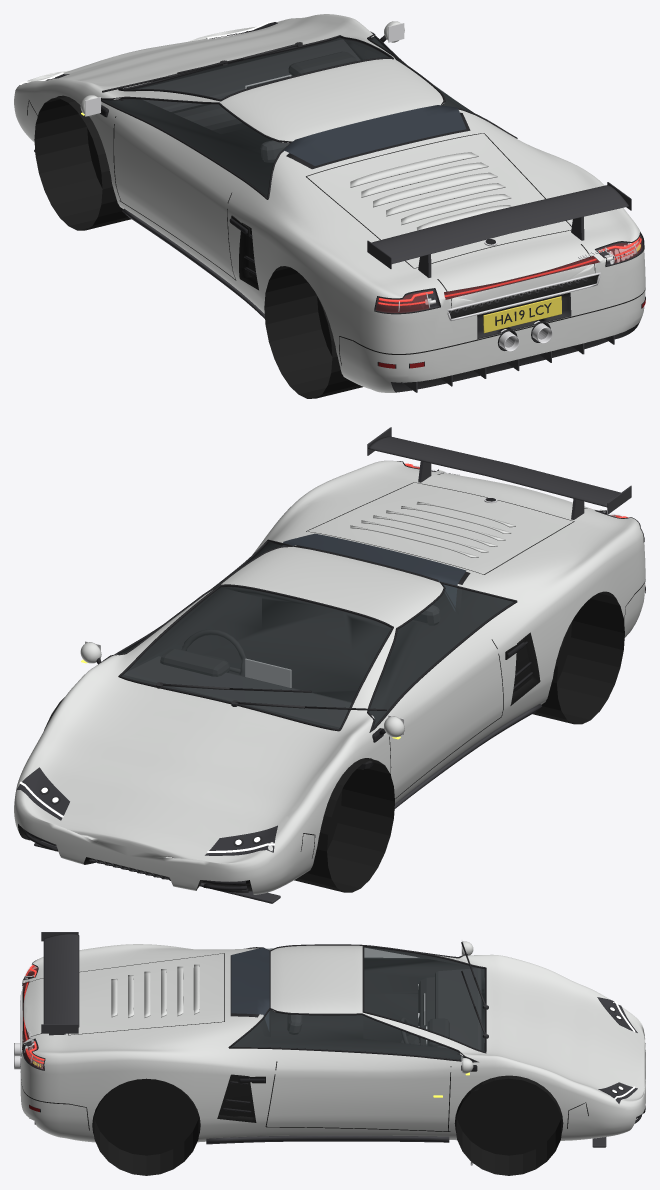
Rendered from halcyon.glb.
3 views of the same model, one above another, from view 1: azimuth 30°, elevation 25°; view 2: azimuth 150°, elevation 25°; view 3: azimuth 270°, elevation 25° (orthographic). The views are drawn at different scales.
Visible parts, largest first — view 1: halcyon; view 2: halcyon; view 3: halcyon.
Part boxes in pixels (x1,y1,x2,y2): halcyon: (14,14,645,398); halcyon: (14,427,645,903); halcyon: (14,932,645,1175).
Size of the model in its own units: 2.13 by 1.29 by 4.6.
